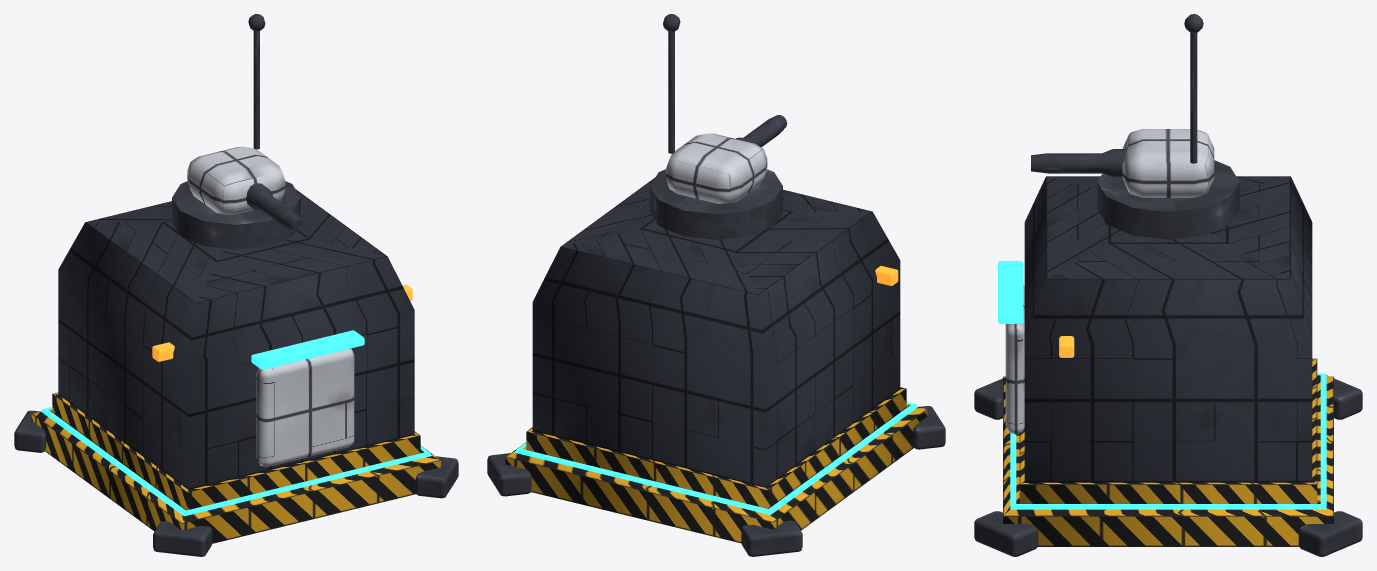
The model's file is sf_barracks.glb.
The picture shows the model from 3 angles, left to right: view 1: azimuth 30°, elevation 25°; view 2: azimuth 150°, elevation 25°; view 3: azimuth 270°, elevation 25°; orthographic projection. The views are drawn at different scales.
Visible parts, largest first — view 1: Base, Turret; view 2: Base, Turret; view 3: Base, Turret.
Part boxes in pixels (left/top/right/bottom): Base: left=14, top=189, right=458, bottom=556; Turret: left=172, top=14, right=302, bottom=249; Base: left=487, top=177, right=945, bottom=556; Turret: left=650, top=14, right=787, bottom=239; Base: left=974, top=176, right=1362, bottom=556; Turret: left=1031, top=14, right=1239, bottom=239.
Bounding box in the file's own units: 0.7636 × 1.04 × 0.7636.
6 materials, 6 textured.
